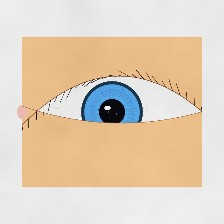pinguecula_lesion: (25, 97, 72, 135)
